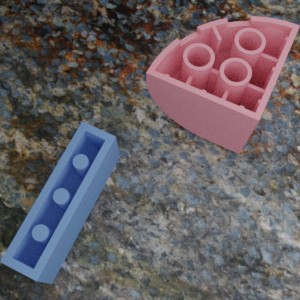lego: (146, 16, 300, 154), (0, 121, 120, 284)
